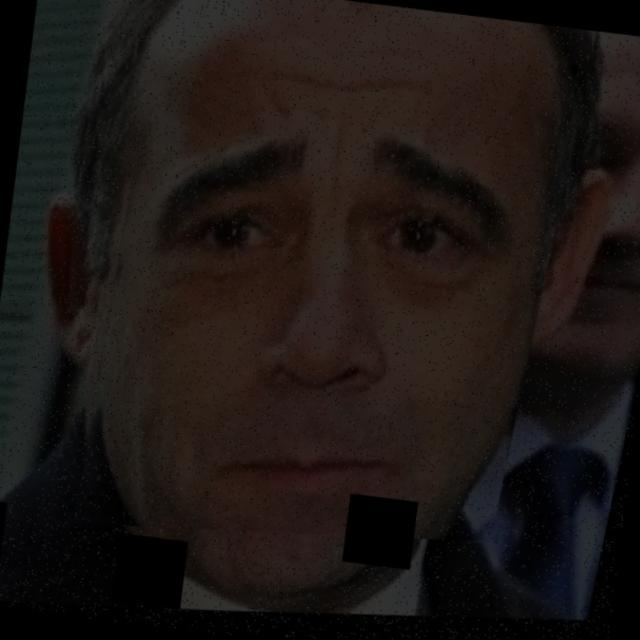Sad: (72, 125, 523, 562)
